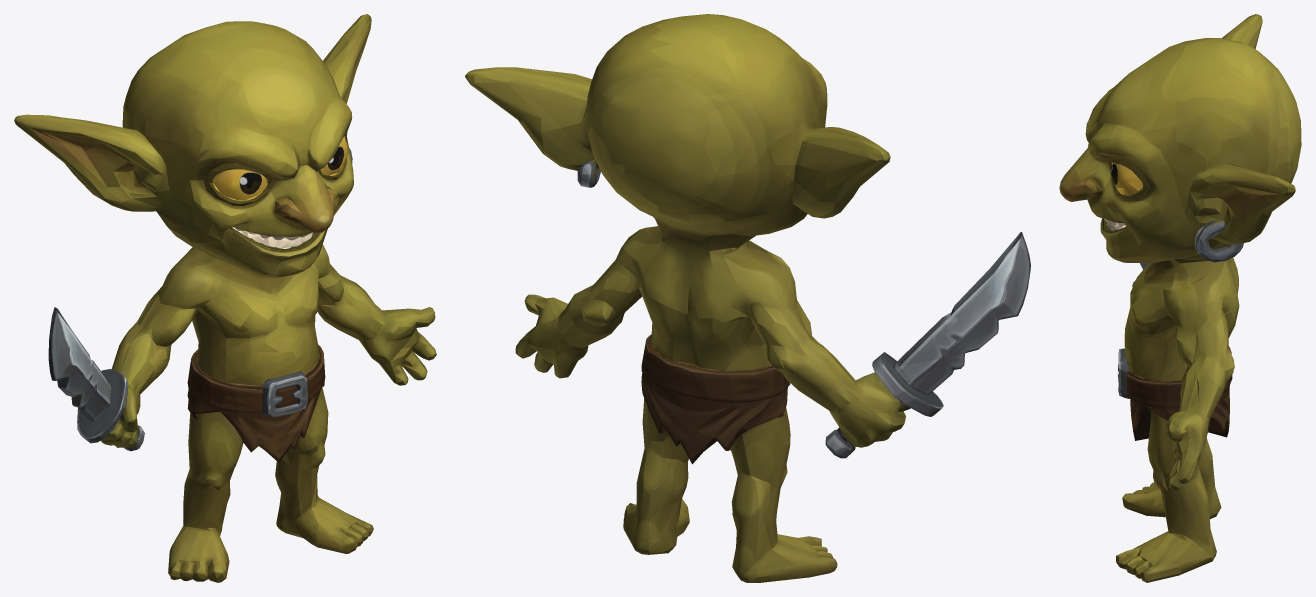
The model's file is Goblin_Grunt.fbx.
3 views of the same model, side by side, from view 1: azimuth 30°, elevation 25°; view 2: azimuth 150°, elevation 25°; view 3: azimuth 270°, elevation 25° (orthographic). The views are drawn at different scales.
Parts seen in each view (by area): view 1: output_unwrapped; view 2: output_unwrapped; view 3: output_unwrapped.
Part boxes in pixels (bbox=[...]): output_unwrapped: bbox=[14, 14, 436, 582]; output_unwrapped: bbox=[465, 14, 1030, 582]; output_unwrapped: bbox=[1059, 14, 1301, 582].
Bounding box in the file's own units: 170 × 190 × 86.05.
Materials: 1 (1 with a texture image).
